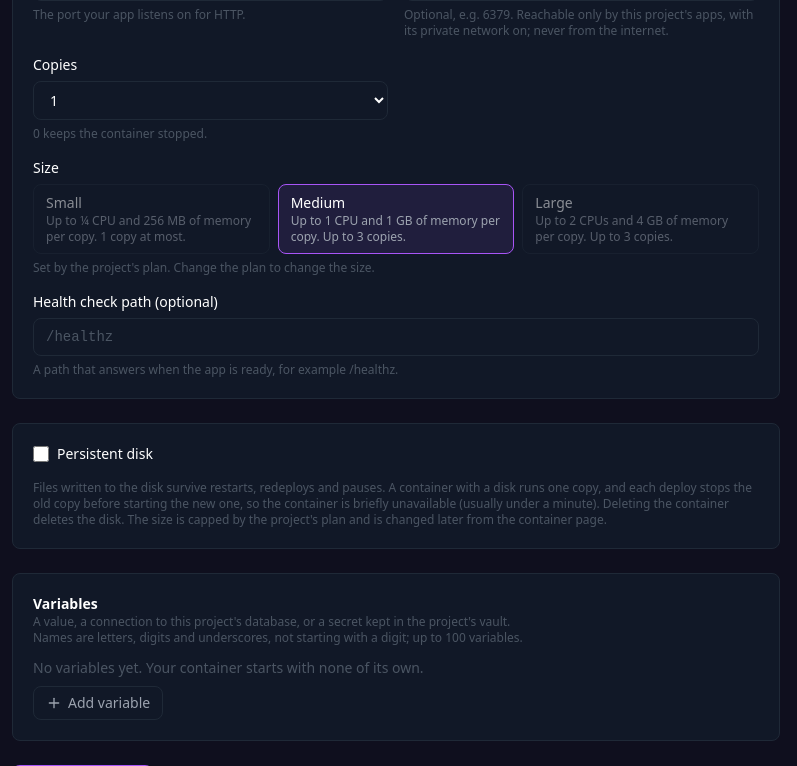
Test: AppForm › a secret value is typed into a masked box
(page scrolled)
Click the button with test id "env-add": (98, 703) x1=33 y1=686 x2=163 y2=720
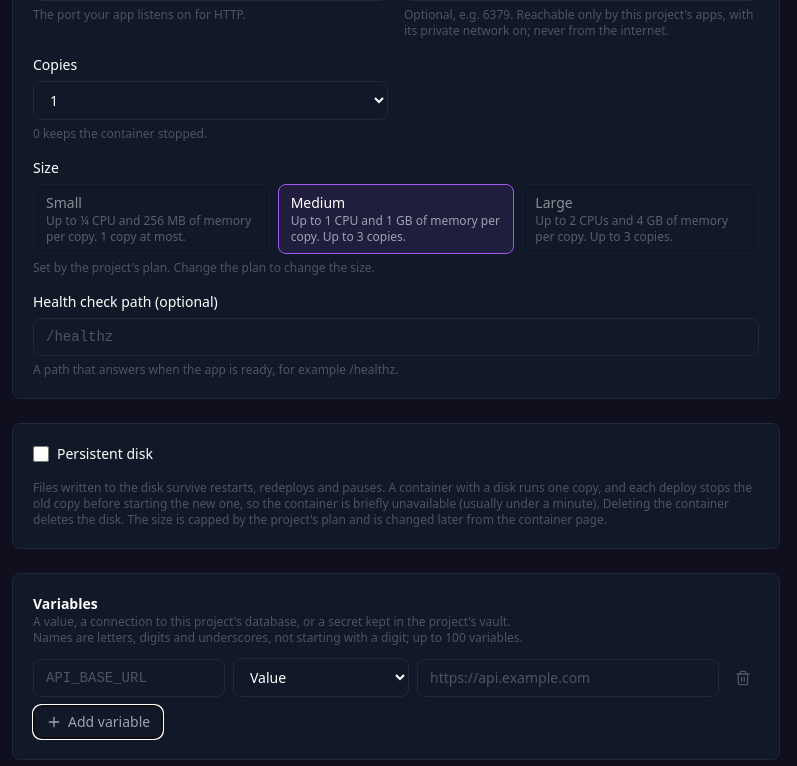
Select "Secret" in the dropdown with test id "env-kind-0": (321, 678) x1=233 y1=658 x2=409 y2=697
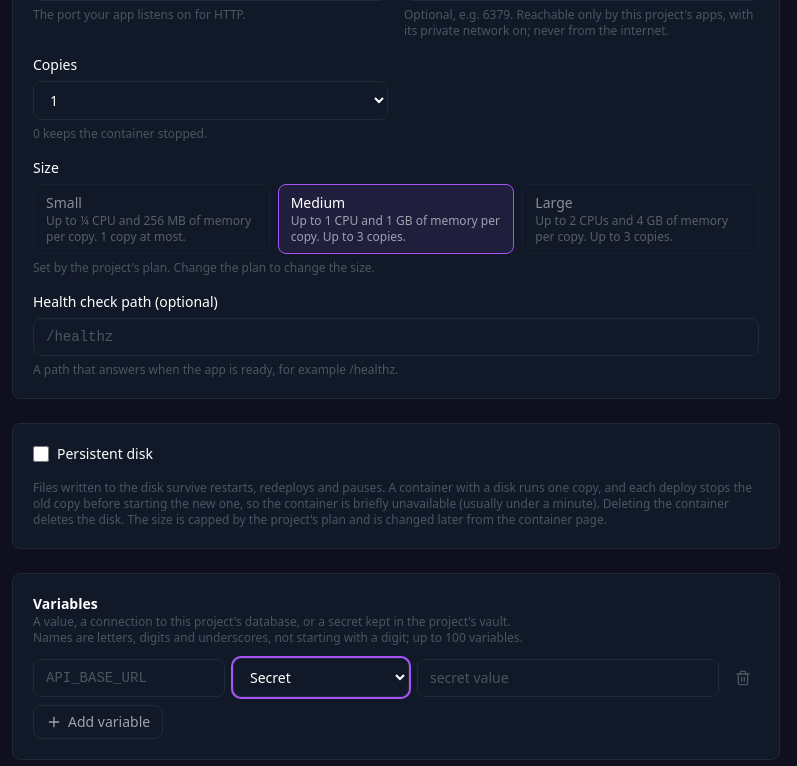
Expected: the field with test id "env-value-0" is gone
